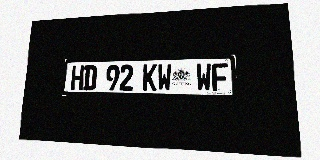2: (119, 65, 133, 91)
9: (106, 65, 120, 91)
D: (83, 65, 97, 91)
F: (212, 63, 228, 92)
H: (70, 66, 84, 91)
K: (143, 64, 157, 91)
W: (196, 63, 212, 91), (157, 64, 172, 91)
